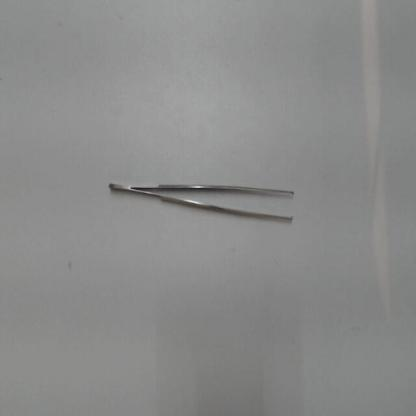Gillies Toothed Dissector: (98, 176, 300, 236)
